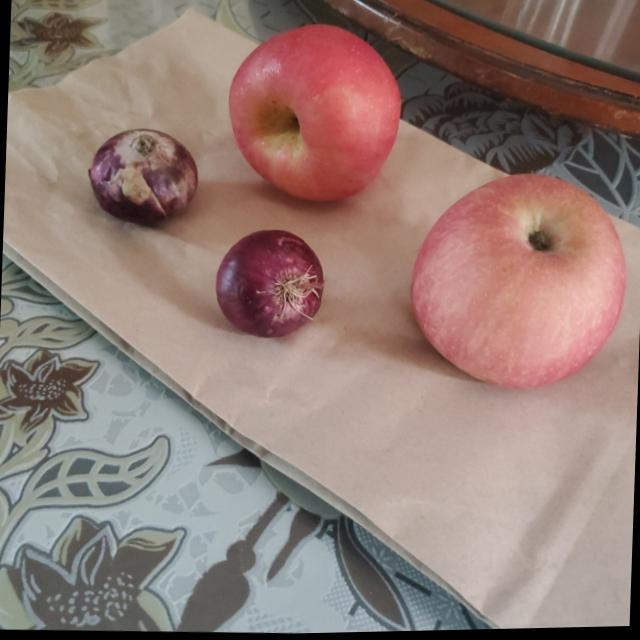apple: (410, 164, 634, 396), (223, 21, 405, 208)
onion: (214, 227, 326, 343), (86, 126, 200, 231)
